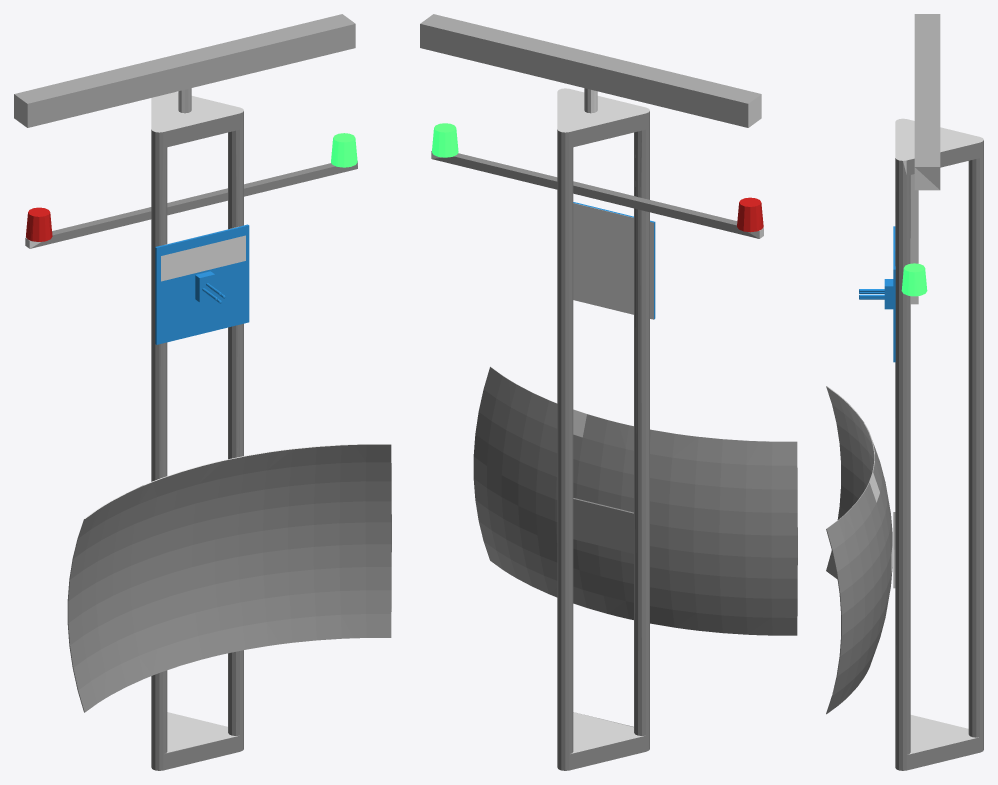
Rendered from mast_colored.dae.
The picture shows the model from 3 angles, left to right: view 1: azimuth 30°, elevation 25°; view 2: azimuth 150°, elevation 25°; view 3: azimuth 270°, elevation 25°; orthographic projection. The views are drawn at different scales.
Parts seen in each view (by area): view 1: node0, Plane; view 2: node0; view 3: node0.
Part boxes in pixels (box(x1,y1,x2,y2)): node0: box(14, 14, 391, 770); Plane: box(161, 235, 245, 281); node0: box(420, 14, 797, 770); node0: box(826, 14, 983, 770).
Bounding box in the file's own units: 1.08 × 0.471 × 2.17.
